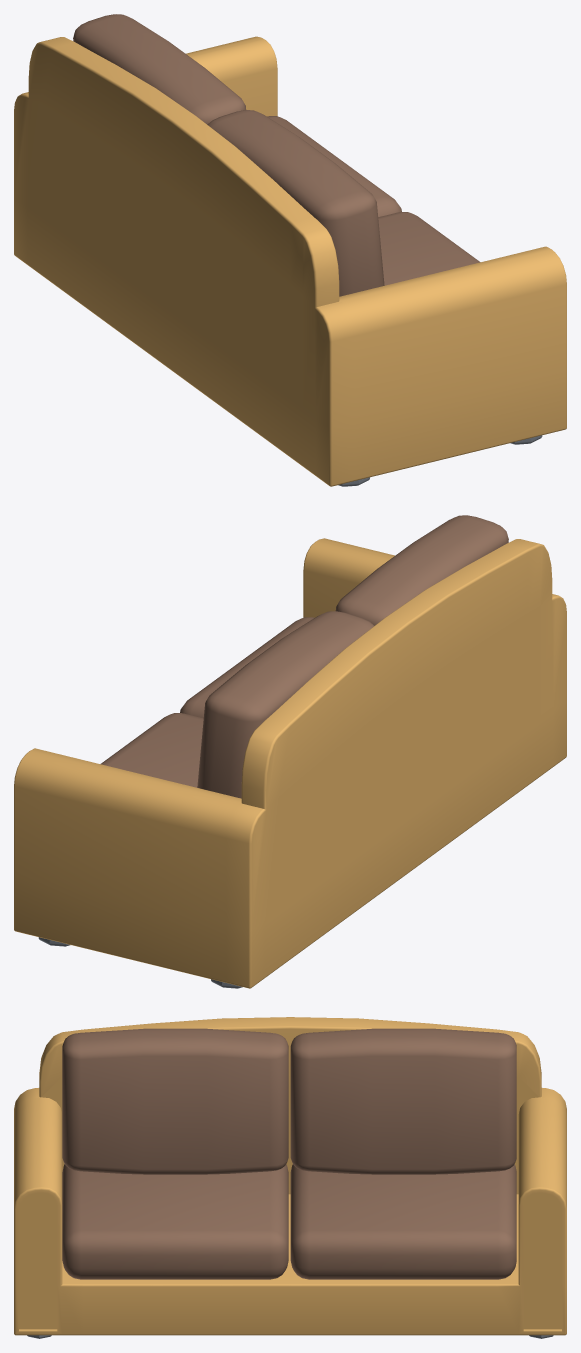
File: MP_Prebuilt_Sofa.fbx
3 views of the same model, one above another, from view 1: azimuth 30°, elevation 25°; view 2: azimuth 150°, elevation 25°; view 3: azimuth 270°, elevation 25° (orthographic). The views are drawn at different scales.
Parts seen in each view (by area): view 1: Sofa_Frame, Sofa_Cushion.002, Sofa_Cushion.003, Sofa_Cushion, Sofa_Cushion.001; view 2: Sofa_Frame, Sofa_Cushion.003, Sofa_Cushion.002, Sofa_Cushion.001, Sofa_Cushion; view 3: Sofa_Frame, Sofa_Cushion.002, Sofa_Cushion.003, Sofa_Cushion.001, Sofa_Cushion.
Part boxes in pixels (bbox=[...]): Sofa_Frame: bbox=[14, 36, 566, 486]; Sofa_Cushion.002: bbox=[207, 110, 384, 296]; Sofa_Cushion.003: bbox=[73, 14, 246, 124]; Sofa_Cushion: bbox=[378, 212, 480, 285]; Sofa_Cushion.001: bbox=[267, 116, 401, 216]; Sofa_Frame: bbox=[14, 538, 566, 988]; Sofa_Cushion.003: bbox=[197, 611, 373, 798]; Sofa_Cushion.002: bbox=[335, 515, 508, 625]; Sofa_Cushion.001: bbox=[100, 713, 203, 787]; Sofa_Cushion: bbox=[180, 617, 314, 718]; Sofa_Frame: bbox=[14, 1017, 566, 1335]; Sofa_Cushion.002: bbox=[62, 1028, 288, 1174]; Sofa_Cushion.003: bbox=[290, 1028, 516, 1174]; Sofa_Cushion.001: bbox=[290, 1164, 516, 1279]; Sofa_Cushion: bbox=[62, 1164, 288, 1279].
Size of the model in its own units: 86.63 by 92.45 by 199.
